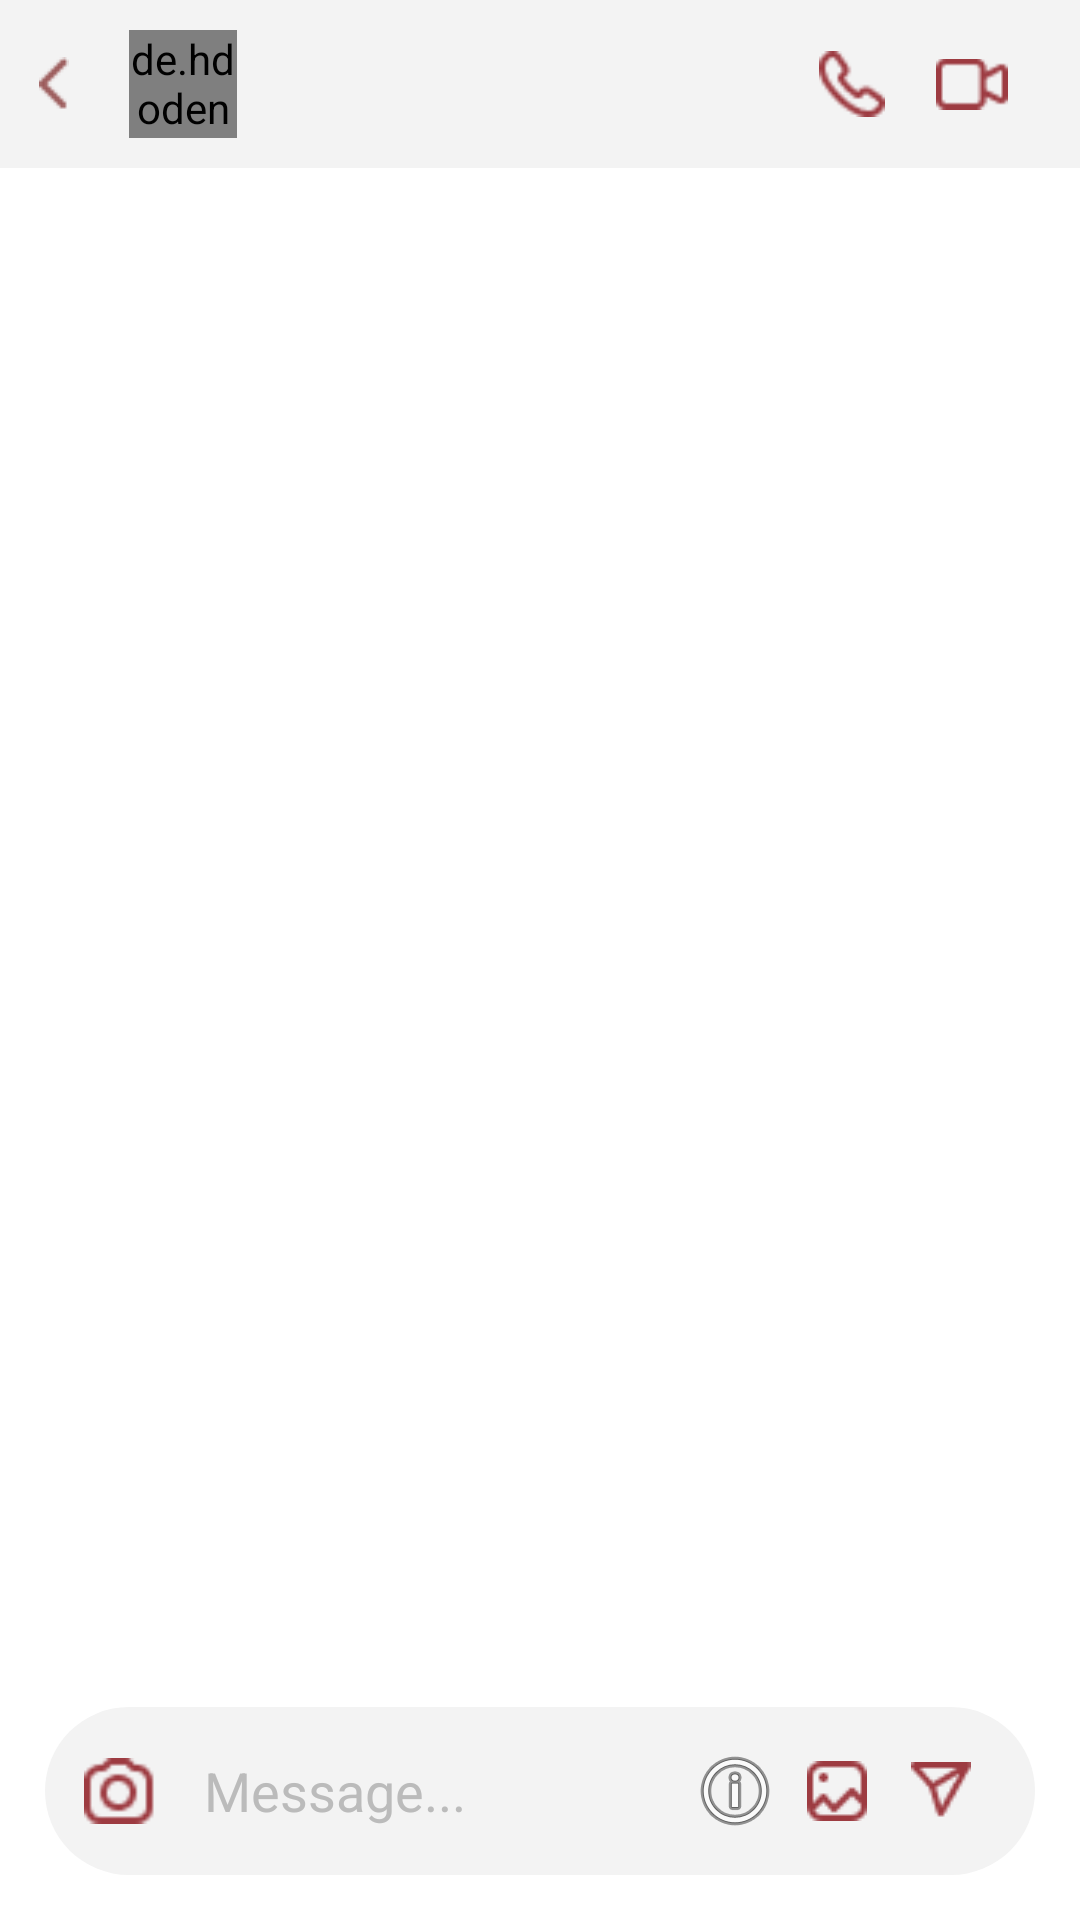

Locate icon controls on the screen. Image size 1080 x 1920, boxes as (x1, y1, x2, y2).
Attach: (807, 1761, 867, 1821)
Back: (39, 57, 69, 109)
Call: (819, 51, 885, 117)
Camera: (84, 1758, 154, 1824)
Send: (911, 1762, 971, 1817)
Video call: (936, 59, 1008, 110)
